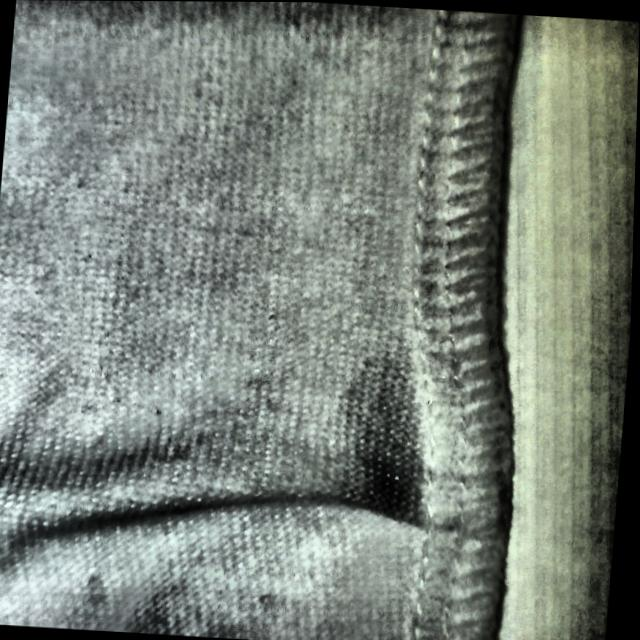seam: (224, 427, 518, 558)
